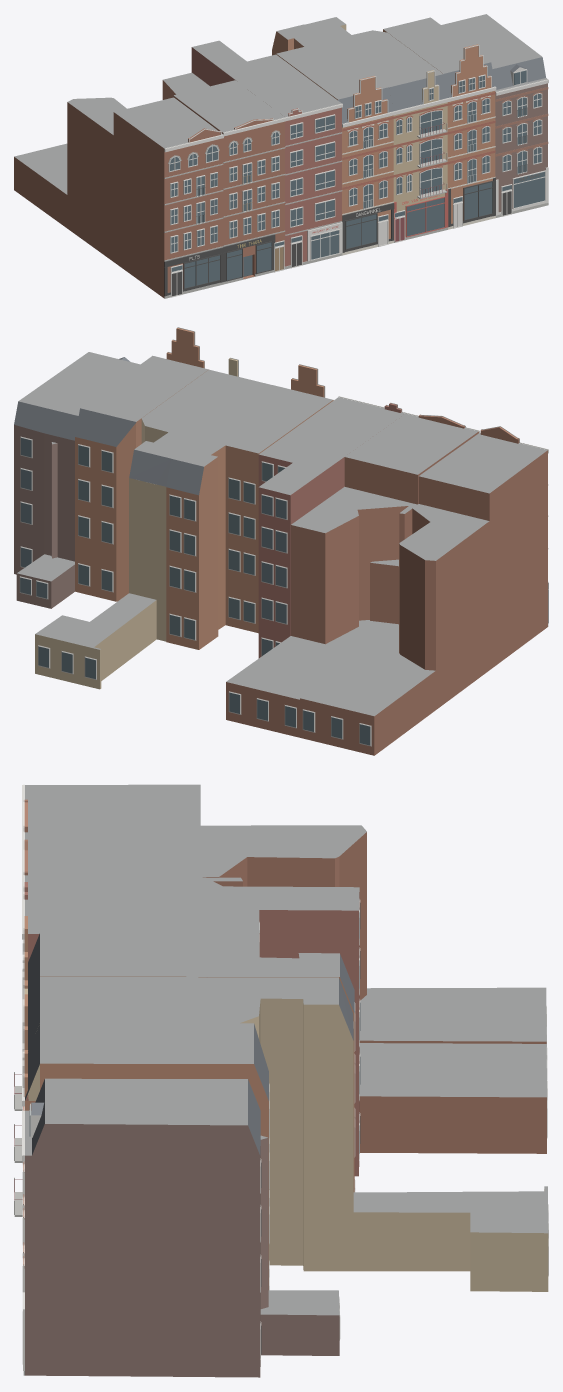
Rendered from chunk-face-bilder-081118-155417.glb.
3 views of the same model, one above another, from view 1: azimuth 30°, elevation 25°; view 2: azimuth 150°, elevation 25°; view 3: azimuth 270°, elevation 25° (orthographic). The views are drawn at different scales.
Visible parts, largest first — view 1: face-bilder-081118-155417; view 2: face-bilder-081118-155417; view 3: face-bilder-081118-155417.
Part boxes in pixels (<box>): face-bilder-081118-155417: <box>14,14,548,298</box>; face-bilder-081118-155417: <box>14,327,548,755</box>; face-bilder-081118-155417: <box>14,784,548,1377</box>.
Bounding box in the file's own units: 45.35 × 19.84 × 30.97.
